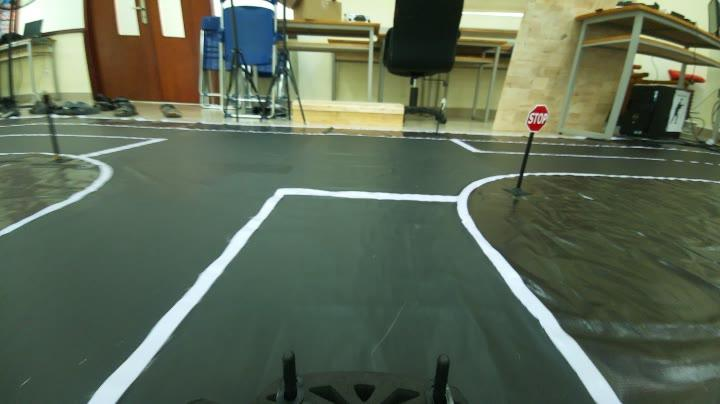stop: (522, 102, 552, 136)
